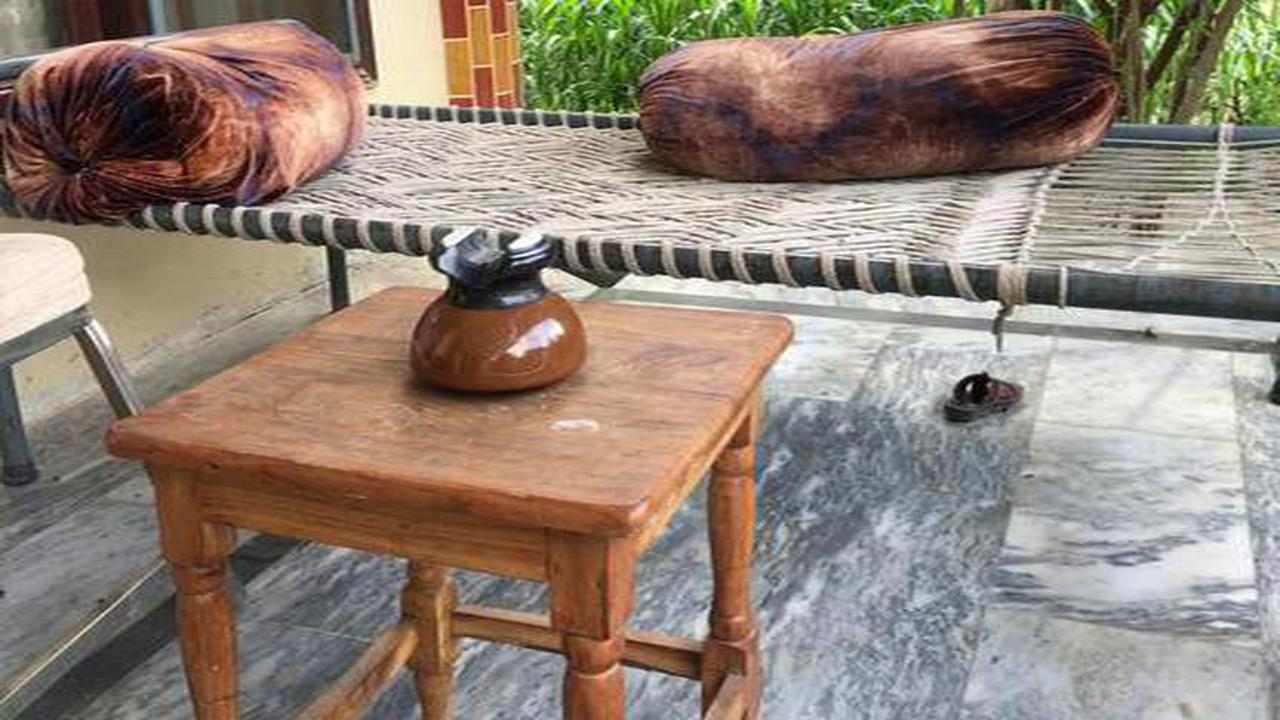insulator_pin: (388, 209, 601, 407)
